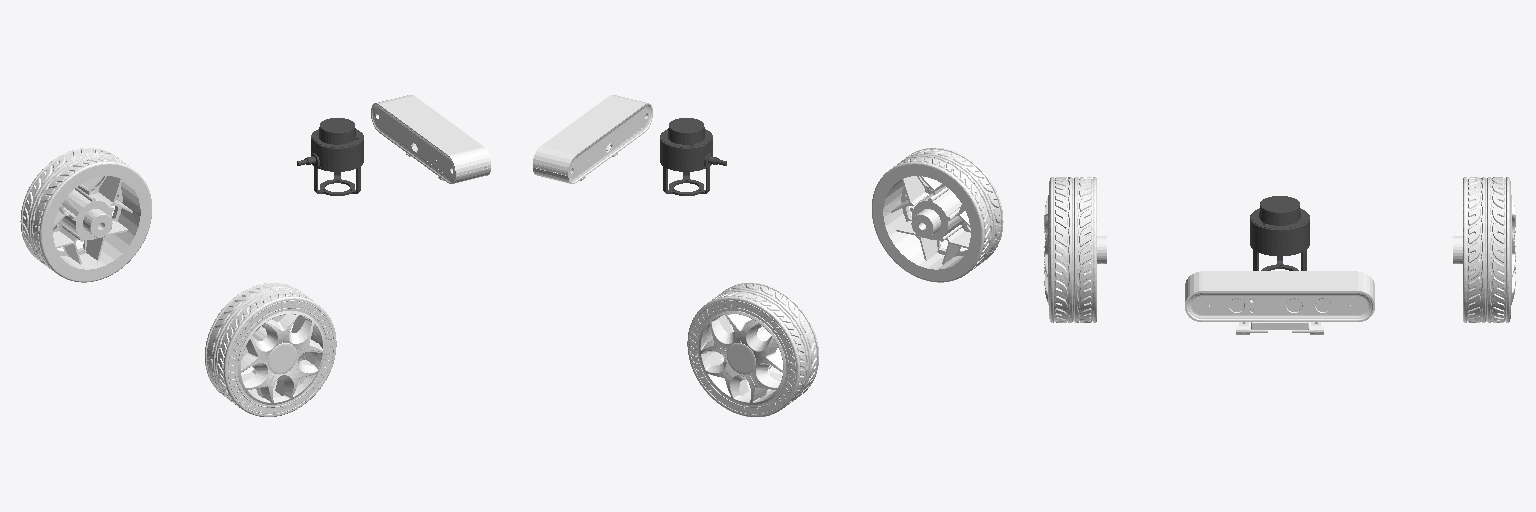
URDF robot description (senior_diff_robot):
<?xml version="1.0" encoding="utf-8"?>
<!-- This URDF was automatically created by SolidWorks to URDF Exporter! Originally created by [author] ([email redacted]) 
     Commit Version: 1.6.0-4-g7f85cfe  Build Version: 1.6.7995.38578
     For more information, please see http://wiki.ros.org/sw_urdf_exporter -->
<robot
  name="senior_diff_robot">
  <link
    name="base_link">
    <inertial>
      <origin
        xyz="-0.0334761324657327 0.00297294780060413 0.0343300151075328"
        rpy="0 0 0" />
      <mass
        value="0.887590731576136" />
      <inertia
        ixx="0.00278972611969311"
        ixy="-1.16031194887004E-05"
        ixz="9.56367575606092E-09"
        iyy="0.00415701834830499"
        iyz="2.56544838719224E-07"
        izz="0.00673137284510804" />
    </inertial>
    <visual>
      <origin
        xyz="0 0 0"
        rpy="0 0 0" />
      <geometry>
        <mesh
          filename="package://wheeltec_robot_urdf/meshes/senior_diff_robot_meshes/base_link.STL" />
      </geometry>
      <material
        name="">
        <color
          rgba="0.741176470588235 0.901960784313726 0.956862745098039 1" />
      </material>
    </visual>
    <collision>
      <origin
        xyz="0 0 0"
        rpy="0 0 0" />
      <geometry>
        <mesh
          filename="package://wheeltec_robot_urdf/meshes/senior_diff_robot_meshes/base_link.STL" />
      </geometry>
    </collision>
  </link>
  <link
    name="left_wheel_link">
    <inertial>
      <origin
        xyz="-1.158219531322E-05 -0.000580930068875218 1.77167803066744E-06"
        rpy="0 0 0" />
      <mass
        value="0.28536672177556" />
      <inertia
        ixx="0.000379712667321667"
        ixy="2.91623943143185E-08"
        ixz="-1.97860960662324E-09"
        iyy="0.000673086764821478"
        iyz="-1.25719565526703E-08"
        izz="0.000379744644065044" />
    </inertial>
    <visual>
      <origin
        xyz="0 0 0"
        rpy="0 0 0" />
      <geometry>
        <mesh
          filename="package://wheeltec_robot_urdf/meshes/senior_diff_robot_meshes/left_wheel_link.STL" />
      </geometry>
      <material
        name="">
        <color
          rgba="1 1 1 1" />
      </material>
    </visual>
    <collision>
      <origin
        xyz="0 0 0"
        rpy="0 0 0" />
      <geometry>
        <mesh
          filename="package://wheeltec_robot_urdf/meshes/senior_diff_robot_meshes/left_wheel_link.STL" />
      </geometry>
    </collision>
  </link>
  <joint
    name="left_wheel_joint"
    type="continuous">
    <origin
      xyz="-0.118945514524854 0.181497492330185 0.024983"
      rpy="0 0 0" />
    <parent
      link="base_link" />
    <child
      link="left_wheel_link" />
    <axis
      xyz="0 1 0" />
  </joint>
  <link
    name="right_wheel_link">
    <inertial>
      <origin
        xyz="1.17220073033164E-05 0.000580930068875246 1.77167803075071E-06"
        rpy="0 0 0" />
      <mass
        value="0.285366721775559" />
      <inertia
        ixx="0.000379712667321668"
        ixy="2.91623943147478E-08"
        ixz="1.97860960748483E-09"
        iyy="0.000673086764821479"
        iyz="1.25719565523927E-08"
        izz="0.000379744644065044" />
    </inertial>
    <visual>
      <origin
        xyz="0 0 0"
        rpy="0 0 0" />
      <geometry>
        <mesh
          filename="package://wheeltec_robot_urdf/meshes/senior_diff_robot_meshes/right_wheel_link.STL" />
      </geometry>
      <material
        name="">
        <color
          rgba="1 1 1 1" />
      </material>
    </visual>
    <collision>
      <origin
        xyz="0 0 0"
        rpy="0 0 0" />
      <geometry>
        <mesh
          filename="package://wheeltec_robot_urdf/meshes/senior_diff_robot_meshes/right_wheel_link.STL" />
      </geometry>
    </collision>
  </link>
  <joint
    name="right_wheel_joint"
    type="continuous">
    <origin
      xyz="-0.118944514524855 -0.181186507669815 0.024983"
      rpy="0 0 0" />
    <parent
      link="base_link" />
    <child
      link="right_wheel_link" />
    <axis
      xyz="0 -1 0" />
  </joint>
  <link
    name="quanxiang_wheel_link">
    <inertial>
      <origin
        xyz="-1.61946892897336E-06 0.0010106978332313 3.67902674333273E-06"
        rpy="0 0 0" />
      <mass
        value="0.207004204617659" />
      <inertia
        ixx="3.73241225967469E-05"
        ixy="-5.17933783106316E-09"
        ixz="-4.15322181743276E-09"
        iyy="6.30173359614173E-05"
        iyz="3.34313168939874E-09"
        izz="3.73203221384582E-05" />
    </inertial>
    <visual>
      <origin
        xyz="0 0 0"
        rpy="0 0 0" />
      <geometry>
        <mesh
          filename="package://wheeltec_robot_urdf/meshes/senior_diff_robot_meshes/quanxiang_wheel_link.STL" />
      </geometry>
      <material
        name="">
        <color
          rgba="0.349019607843137 0.349019607843137 0.349019607843137 1" />
      </material>
    </visual>
    <collision>
      <origin
        xyz="0 0 0"
        rpy="0 0 0" />
      <geometry>
        <mesh
          filename="package://wheeltec_robot_urdf/meshes/senior_diff_robot_meshes/quanxiang_wheel_link.STL" />
      </geometry>
    </collision>
  </link>
  <joint
    name="quanxiang_wheel_joint"
    type="continuous">
    <origin
      xyz="0.106276485475146 -9.4507669815693E-05 0.025"
      rpy="0 0 0" />
    <parent
      link="base_link" />
    <child
      link="quanxiang_wheel_link" />
    <axis
      xyz="0 1 0" />
  </joint>
  <link
    name="camera_link">
    <inertial>
      <origin
        xyz="-2.03007641336184E-07 -3.6476009200351E-07 1.07624235398673E-07"
        rpy="0 0 0" />
      <mass
        value="0.0559842512080111" />
      <inertia
        ixx="0.000130810959339214"
        ixy="1.20255128207198E-07"
        ixz="1.62335437080131E-06"
        iyy="1.91148634967895E-05"
        iyz="-2.80016755799662E-08"
        izz="0.000131387469523028" />
    </inertial>
    <visual>
      <origin
        xyz="0 0 0"
        rpy="0 0 0" />
      <geometry>
        <mesh
          filename="package://wheeltec_robot_urdf/meshes/senior_diff_robot_meshes/camera_link.STL" />
      </geometry>
      <material
        name="">
        <color
          rgba="1 1 1 1" />
      </material>
    </visual>
    <collision>
      <origin
        xyz="0 0 0"
        rpy="0 0 0" />
      <geometry>
        <mesh
          filename="package://wheeltec_robot_urdf/meshes/senior_diff_robot_meshes/camera_link.STL" />
      </geometry>
    </collision>
  </link>
  <joint
    name="camera_joint"
    type="fixed">
    <origin
      xyz="0.166138485475146 0.000233492330184093 0.108704"
      rpy="0 0 0" />
    <parent
      link="base_link" />
    <child
      link="camera_link" />
    <axis
      xyz="0 0 0" />
  </joint>
  <link
    name="laser_link">
    <inertial>
      <origin
        xyz="-1.61985139002577E-06 -4.97517338717126E-09 -0.0287607876108592"
        rpy="0 0 0" />
      <mass
        value="0.00487350279505621" />
      <inertia
        ixx="1.86258760691644E-06"
        ixy="-2.58793766001524E-09"
        ixz="-2.38955178336542E-14"
        iyy="1.86258746483757E-06"
        iyz="-2.2891752375606E-15"
        izz="2.11422294867292E-06" />
    </inertial>
    <visual>
      <origin
        xyz="0 0 0"
        rpy="0 0 0" />
      <geometry>
        <mesh
          filename="package://wheeltec_robot_urdf/meshes/senior_diff_robot_meshes/laser.STL" />
      </geometry>
      <material
        name="">
        <color
          rgba="0.376470588235294 0.376470588235294 0.376470588235294 1" />
      </material>
    </visual>
    <collision>
      <origin
        xyz="0 0 0"
        rpy="0 0 0" />
      <geometry>
        <mesh
          filename="package://wheeltec_robot_urdf/meshes/senior_diff_robot_meshes/laser.STL" />
      </geometry>
    </collision>
  </link>
  <joint
    name="laser_joint"
    type="fixed">
    <origin
      xyz="0.0591094854751457 0.000155492330184472 0.134156"
      rpy="0 0 3.14159265358979" />
    <parent
      link="base_link" />
    <child
      link="laser_link" />
    <axis
      xyz="0 0 0" />
  </joint>
  <link
    name="controller_link">
    <inertial>
      <origin
        xyz="-0.0497103400790871 -0.0404866064706645 0.00856001460559381"
        rpy="0 0 0" />
      <mass
        value="0.00107921953110441" />
      <inertia
        ixx="1.16330109775186E-08"
        ixy="-3.94092668869431E-09"
        ixz="3.69212784611447E-10"
        iyy="2.26830020206345E-07"
        iyz="5.2301513006965E-10"
        izz="2.25657042461933E-07" />
    </inertial>
    <visual>
      <origin
        xyz="0 0 0"
        rpy="0 0 0" />
      <geometry>
        <mesh
          filename="package://wheeltec_robot_urdf/meshes/senior_diff_robot_meshes/controller_link.STL" />
      </geometry>
      <material
        name="">
        <color
          rgba="0.741176470588235 0.901960784313726 0.956862745098039 1" />
      </material>
    </visual>
    <collision>
      <origin
        xyz="0 0 0"
        rpy="0 0 0" />
      <geometry>
        <mesh
          filename="package://wheeltec_robot_urdf/meshes/senior_diff_robot_meshes/controller_link.STL" />
      </geometry>
    </collision>
  </link>
  <joint
    name="controller_joint"
    type="fixed">
    <origin
      xyz="0.0266632368209799 0.0326554923300633 0.00200000000000009"
      rpy="0 0 0" />
    <parent
      link="base_link" />
    <child
      link="controller_link" />
    <axis
      xyz="0 0 0" />
  </joint>
</robot>

--- Facts derived from the render (not from the file) ---
The picture shows the robot from 3 angles, left to right: view 1: azimuth 30°, elevation 25°; view 2: azimuth 150°, elevation 25°; view 3: azimuth 270°, elevation 25°; orthographic projection.
Model senior_diff_robot with 7 links and 6 joints (3 continuous, 3 fixed), rooted at base_link, posed all joints at 0.
Visible links, largest first — view 1: right_wheel_link, left_wheel_link, camera_link, laser_link; view 2: left_wheel_link, right_wheel_link, camera_link, laser_link; view 3: camera_link, right_wheel_link, left_wheel_link, laser_link.
Link boxes in pixels (<box>): right_wheel_link: <box>205,283,336,416</box>; left_wheel_link: <box>20,148,151,282</box>; camera_link: <box>371,95,490,183</box>; laser_link: <box>297,118,363,195</box>; left_wheel_link: <box>687,283,818,416</box>; right_wheel_link: <box>872,148,1003,282</box>; camera_link: <box>533,95,652,183</box>; laser_link: <box>660,118,726,195</box>; camera_link: <box>1185,271,1374,334</box>; right_wheel_link: <box>1044,177,1106,322</box>; left_wheel_link: <box>1453,177,1515,322</box>; laser_link: <box>1250,196,1309,270</box>.
Bounding box of the posed robot: 0.3662 × 0.4078 × 0.1901 m (x, y, z).
Meshes: 7 distinct files referenced, 4 mesh visuals loaded (4 binary STL); not drawn: 3 (reference not matched to a file when rendering).
